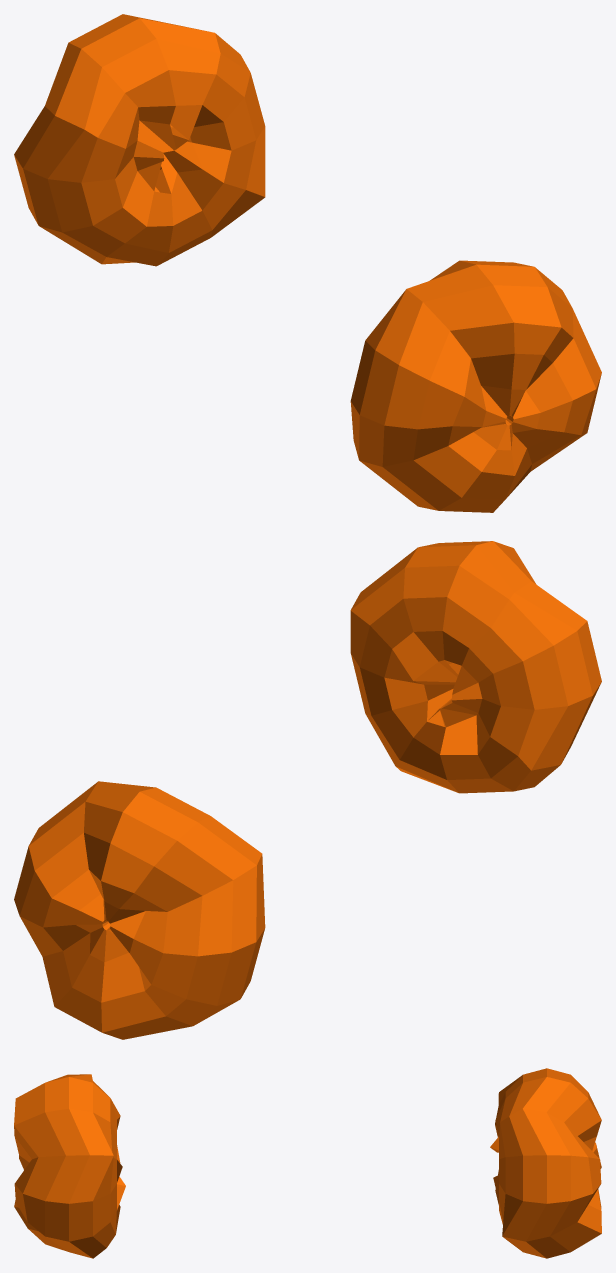
The model's file is Pumpkin.dae.
3 renders of one model, top to bottom at view 1: azimuth 30°, elevation 25°; view 2: azimuth 150°, elevation 25°; view 3: azimuth 270°, elevation 25°, orthographic. The views are drawn at different scales.
Parts seen in each view (by area): view 1: pTorus3; view 2: pTorus3; view 3: pTorus3.
Part boxes in pixels (x1,y1,x2,y2): pTorus3: (14,14,601,512); pTorus3: (14,541,601,1039); pTorus3: (14,1068,601,1258).
Size of the model in its own units: 4 by 4 by 12.3.
1 material, 1 textured.
